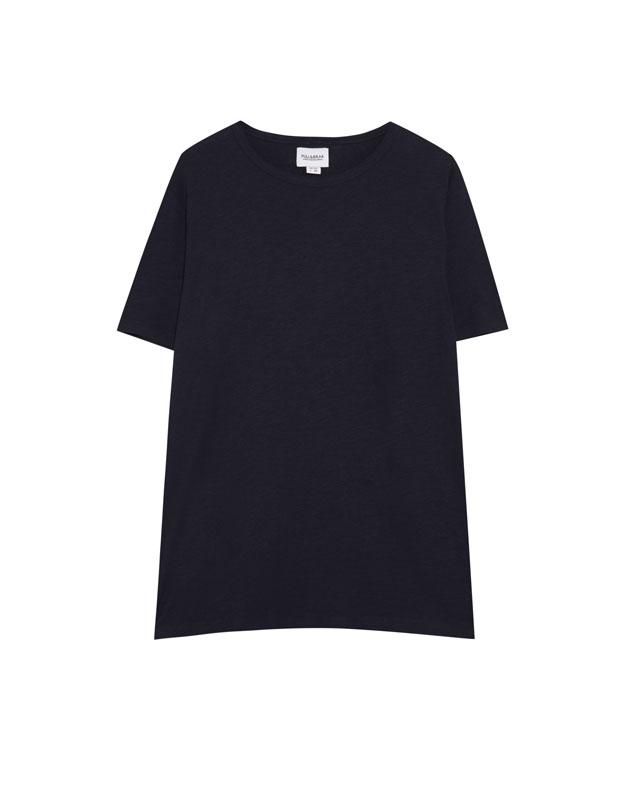teeshirt: (102, 108, 523, 675)
